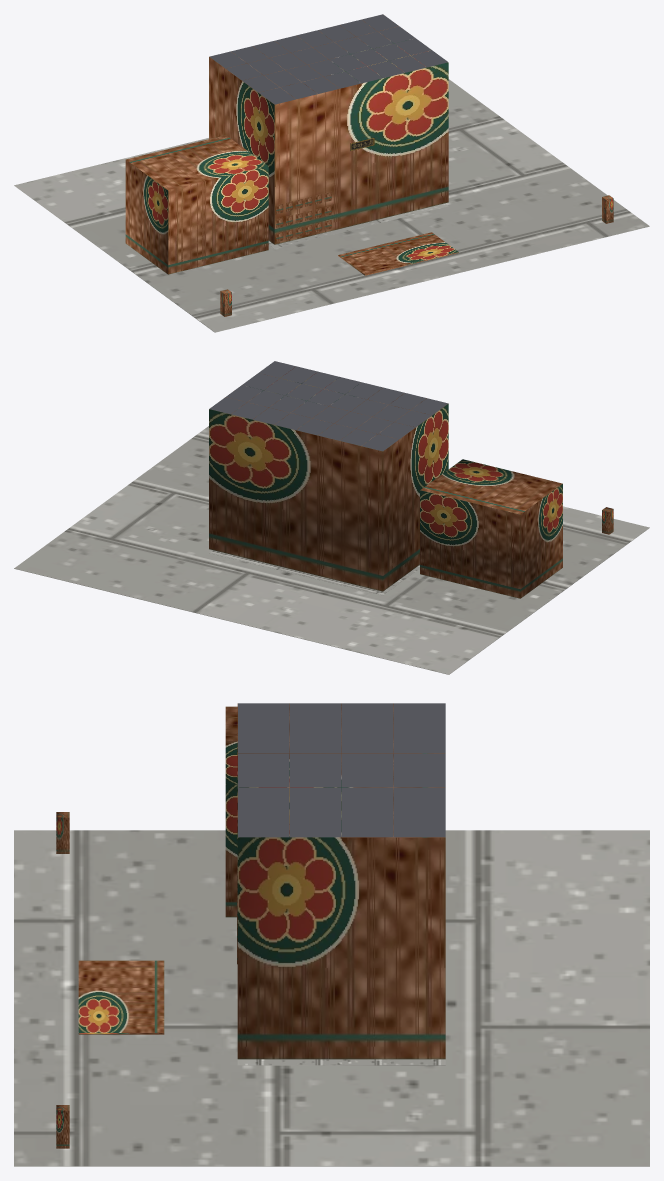
3 renders of one model, top to bottom at view 1: azimuth 30°, elevation 25°; view 2: azimuth 150°, elevation 25°; view 3: azimuth 270°, elevation 25°, orthographic. The views are drawn at different scales.
Visible parts, largest first — view 1: 11710_01_05556_005_02_L2__body, 11710_01_05556_005_01_L2__base, 11710_01_05556_005_03_L2__roof, 11710_01_05556_005_05_L2__openings, 11710_01_05556_005_06_L2__green; view 2: 11710_01_05556_005_02_L2__body, 11710_01_05556_005_01_L2__base, 11710_01_05556_005_03_L2__roof; view 3: 11710_01_05556_005_01_L2__base, 11710_01_05556_005_02_L2__body, 11710_01_05556_005_03_L2__roof, 11710_01_05556_005_06_L2__green.
Boxes of the visible parts, <box> form: 11710_01_05556_005_02_L2__body: <box>125,21,458,275</box>; 11710_01_05556_005_01_L2__base: <box>14,79,649,332</box>; 11710_01_05556_005_03_L2__roof: <box>209,14,447,104</box>; 11710_01_05556_005_05_L2__openings: <box>276,192,331,241</box>; 11710_01_05556_005_06_L2__green: <box>220,195,613,316</box>; 11710_01_05556_005_02_L2__body: <box>209,367,562,598</box>; 11710_01_05556_005_01_L2__base: <box>14,426,649,674</box>; 11710_01_05556_005_03_L2__roof: <box>209,361,448,451</box>; 11710_01_05556_005_01_L2__base: <box>14,830,649,1166</box>; 11710_01_05556_005_02_L2__body: <box>78,703,445,1059</box>; 11710_01_05556_005_03_L2__roof: <box>238,703,445,837</box>; 11710_01_05556_005_06_L2__green: <box>56,812,69,1148</box>.
Size of the model in its own units: 130 by 41.22 by 104.
5 materials, 5 textured.
